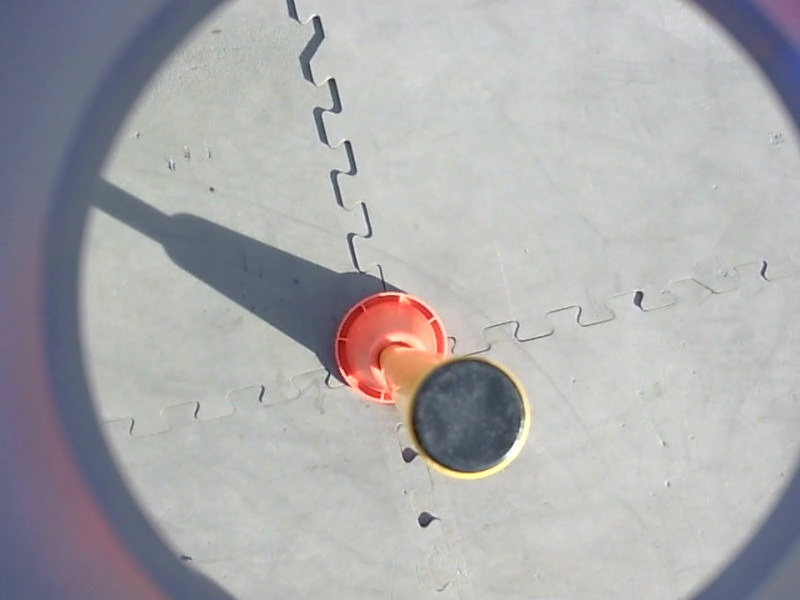tip: (402, 351, 536, 486)
